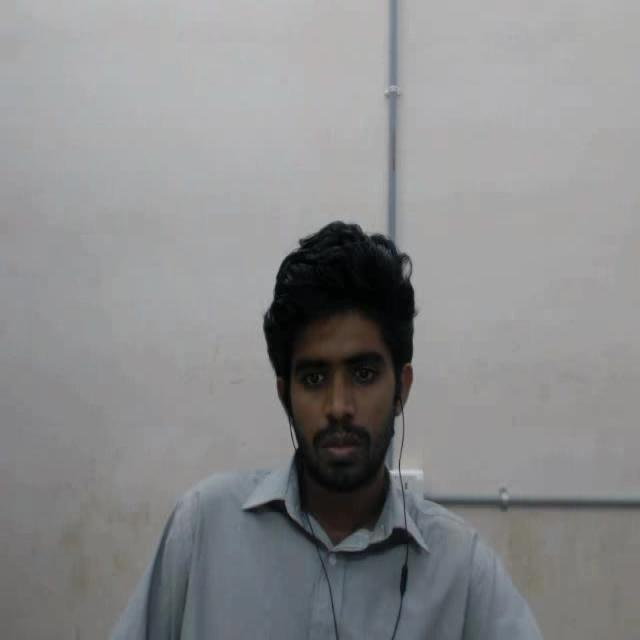Engaged: (241, 196, 430, 513)
